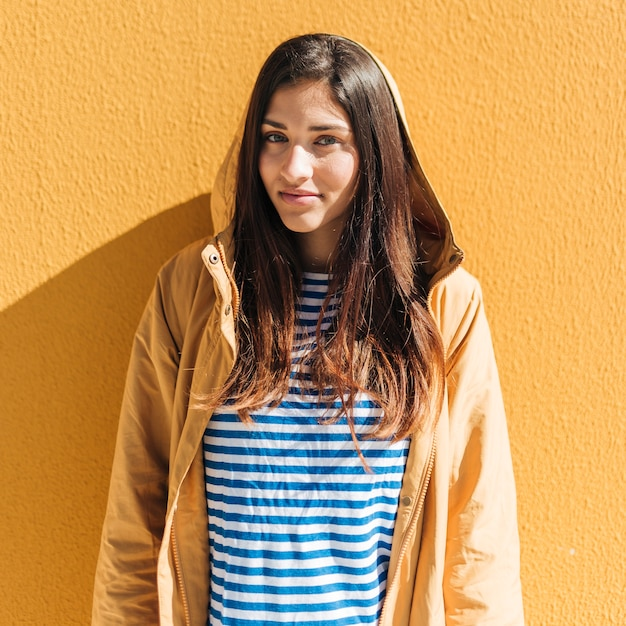teen: (201, 36, 434, 282)
